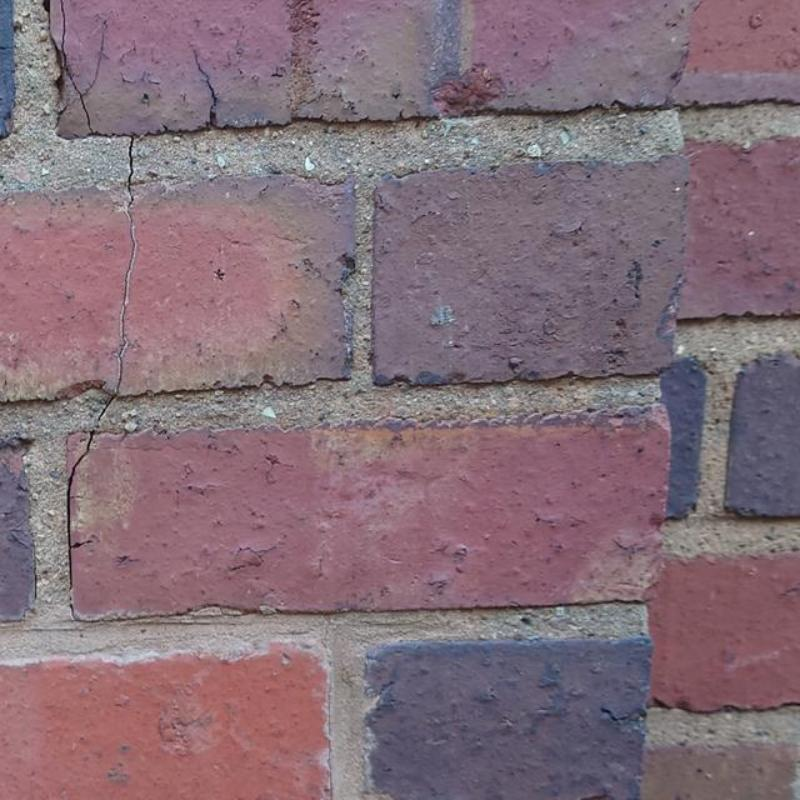crack: (66, 138, 138, 595), (55, 0, 110, 136), (187, 40, 220, 130)
